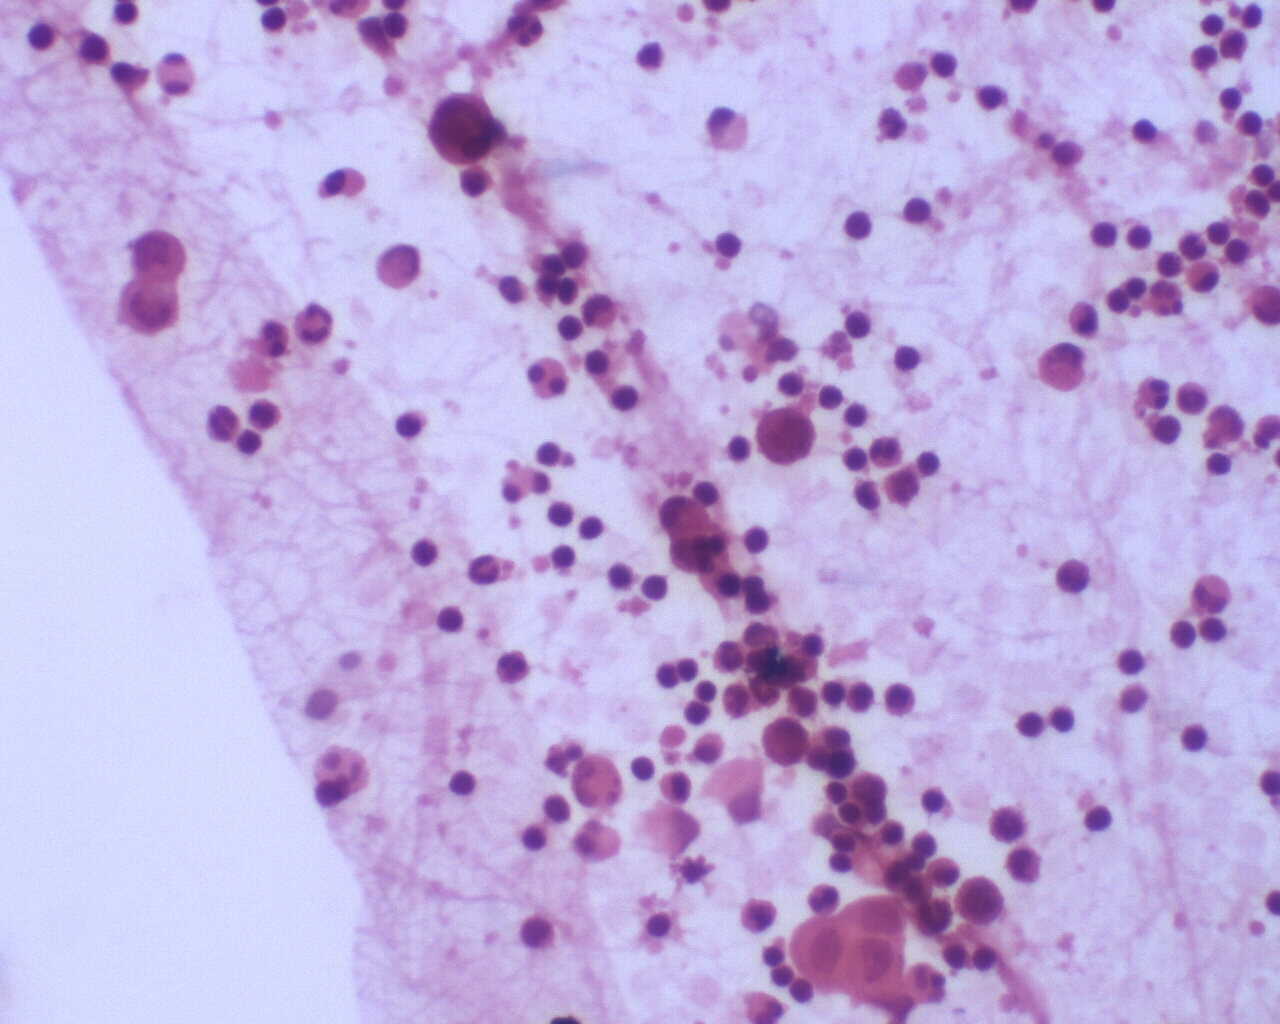ab: (425, 86, 499, 167), (750, 402, 821, 469), (127, 225, 191, 286), (757, 712, 811, 771), (845, 891, 910, 938), (956, 870, 1007, 929)
lymph: (391, 408, 434, 443), (433, 602, 469, 639), (1083, 800, 1121, 835), (1164, 618, 1201, 653), (1125, 219, 1162, 255), (408, 531, 440, 571), (712, 227, 747, 262), (1178, 721, 1214, 755), (609, 378, 644, 415), (842, 206, 877, 242), (842, 307, 876, 345), (891, 339, 925, 375), (445, 766, 481, 799), (519, 818, 551, 856), (551, 539, 582, 573), (583, 348, 616, 377), (627, 753, 657, 785), (1050, 702, 1079, 735), (545, 501, 578, 528)
meso: (787, 915, 852, 982)
neutro: (290, 295, 338, 352), (493, 644, 534, 688), (1132, 370, 1172, 413), (467, 546, 504, 590), (805, 882, 843, 918), (868, 432, 905, 468)
